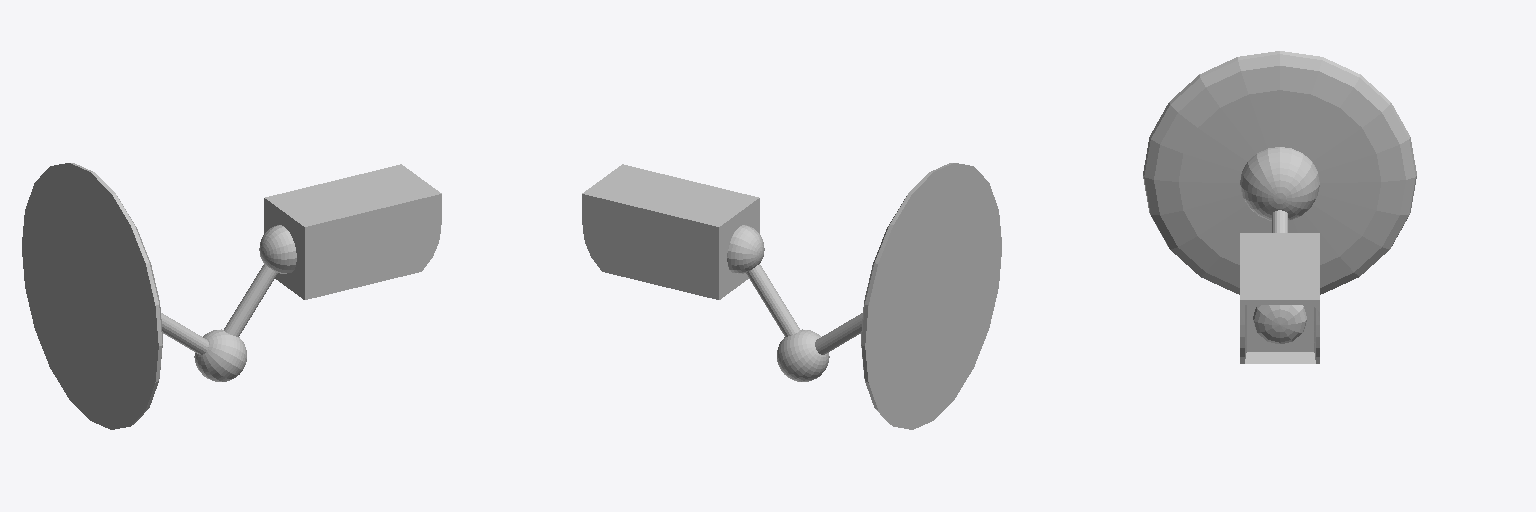
The model's file is Camara4.obj.
3 views of the same model, side by side, from view 1: azimuth 30°, elevation 25°; view 2: azimuth 150°, elevation 25°; view 3: azimuth 270°, elevation 25° (orthographic).
Visible parts, largest first — view 1: polySurface17, polySurface17 polySurface10 polySurface13 polySurface12 polySurf, polySurface17 polySurface10 polySurface13 polySurface12, polySurface17 polySurface10 polySurface13; view 2: polySurface17, polySurface17 polySurface10 polySurface13 polySurface12 polySurf, polySurface17 polySurface10 polySurface13 polySurface12, polySurface17 polySurface10 polySurface13; view 3: polySurface17, polySurface17 polySurface10 polySurface13 polySurface12 polySurf, polySurface17 polySurface10.
Part boxes in pixels (x1,y1,x2,y2): polySurface17: (22,163,162,429); polySurface17 polySurface10 polySurface13 polySurface12 polySurf: (224,164,441,336); polySurface17 polySurface10 polySurface13 polySurface12: (194,329,246,381); polySurface17 polySurface10 polySurface13: (161,313,208,354); polySurface17: (861,163,1001,429); polySurface17 polySurface10 polySurface13 polySurface12 polySurf: (582,164,799,336); polySurface17 polySurface10 polySurface13 polySurface12: (777,329,829,381); polySurface17 polySurface10 polySurface13: (815,313,862,354); polySurface17: (1143,51,1416,294); polySurface17 polySurface10 polySurface13 polySurface12 polySurf: (1240,233,1319,363); polySurface17 polySurface10: (1240,147,1319,220).
Size of the model in its own units: 9.49 by 6.8 by 6.8.